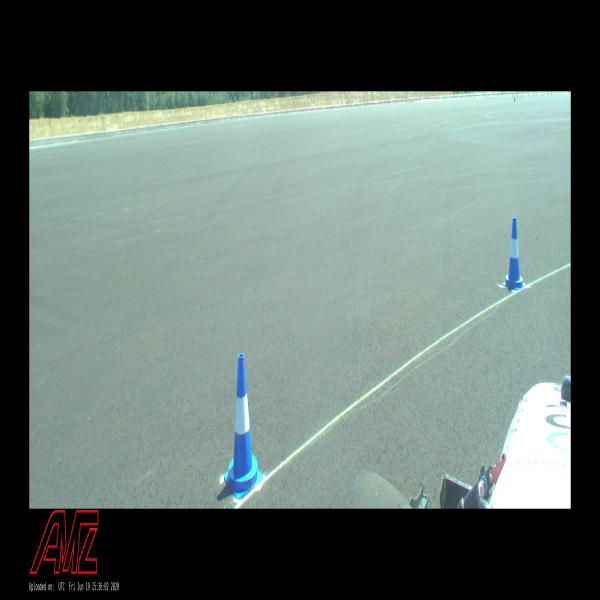blue_cone: (224, 354, 263, 499), (502, 217, 526, 291)
